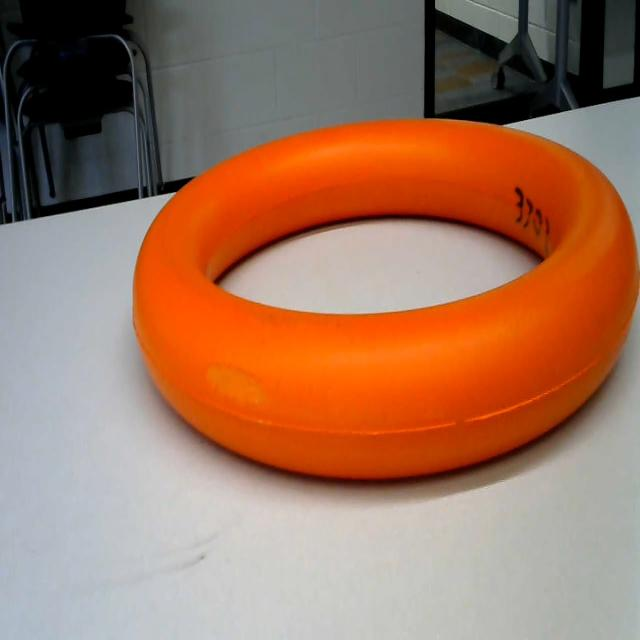note: (110, 100, 640, 514)
